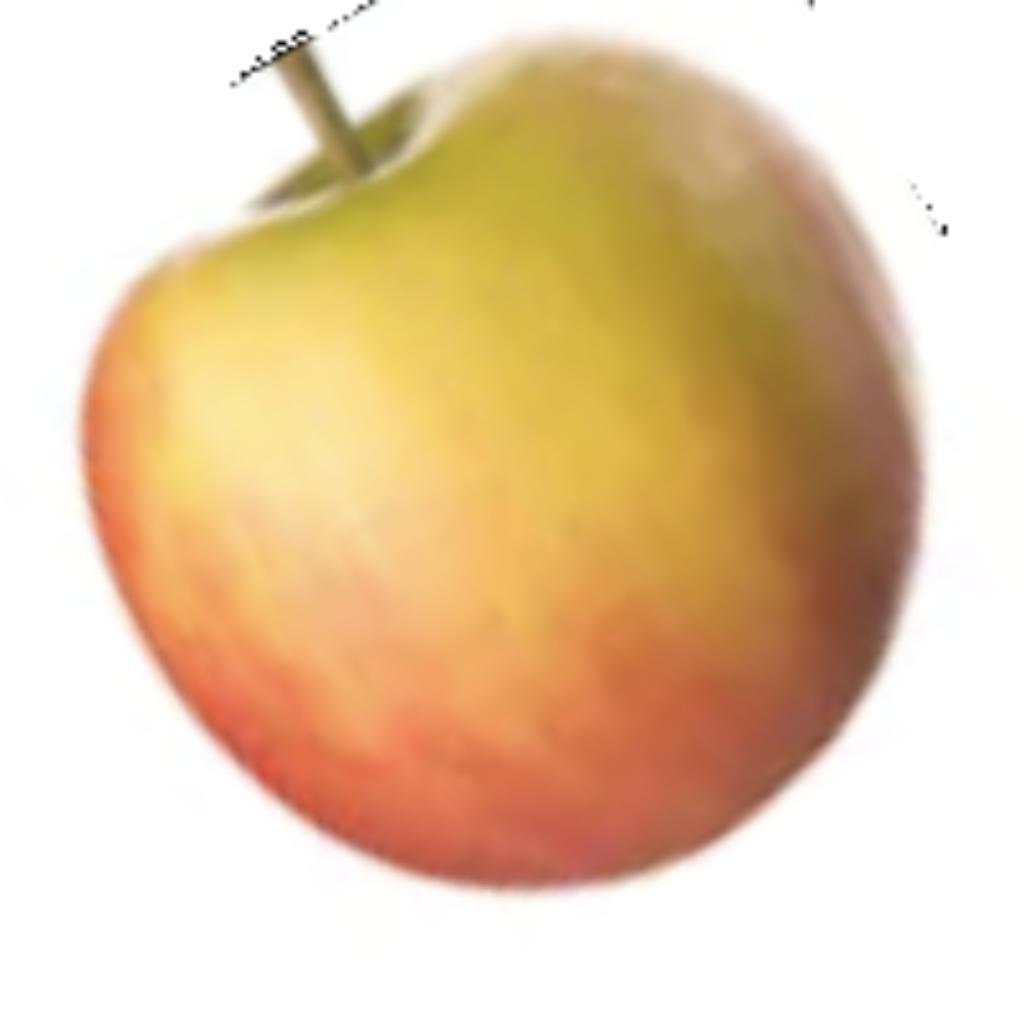apple: (61, 0, 937, 906)
